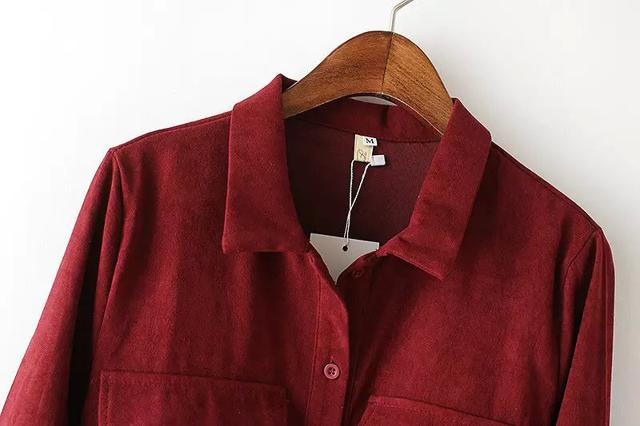Tops: (3, 81, 617, 426)
